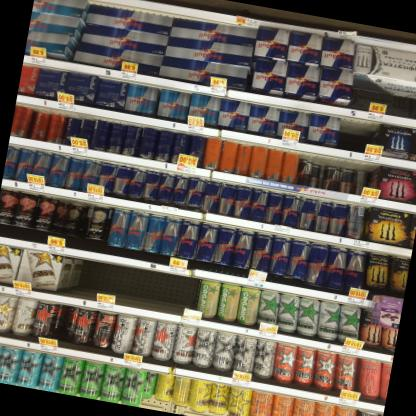empty_space: (82, 258, 126, 292), (161, 271, 196, 311), (128, 264, 161, 306), (339, 115, 371, 142)
